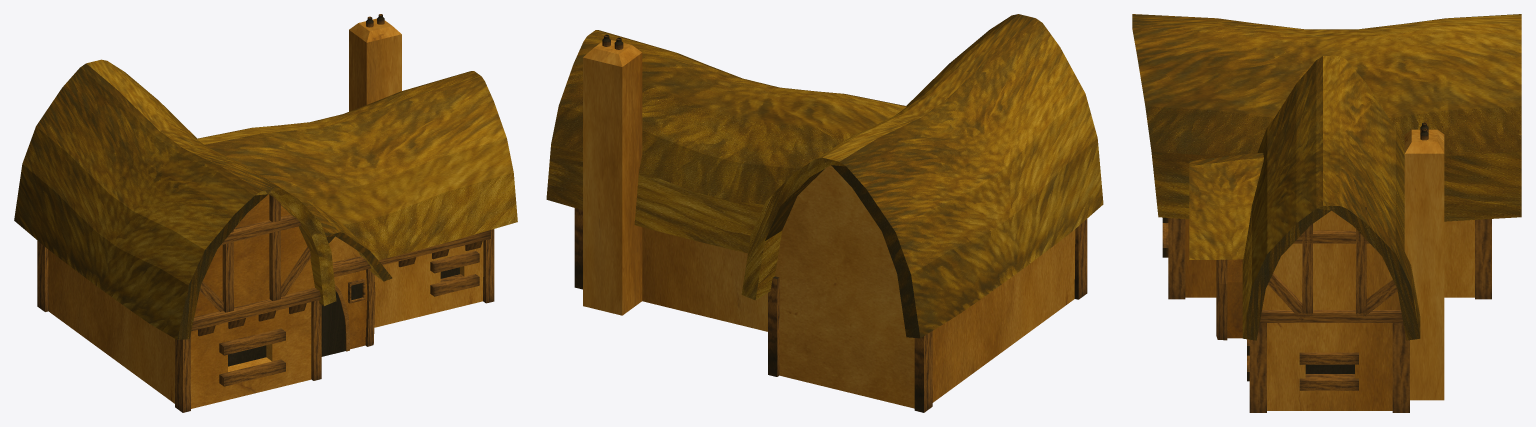
Rendered from house.fbx.
The picture shows the model from 3 angles, left to right: view 1: azimuth 30°, elevation 25°; view 2: azimuth 150°, elevation 25°; view 3: azimuth 270°, elevation 25°; orthographic projection. The views are drawn at different scales.
Visible parts, largest first — view 1: 큐브.025; view 2: 큐브.025; view 3: 큐브.025.
Part boxes in pixels (x1,y1,x2,y2): 큐브.025: (14,14,517,412); 큐브.025: (546,14,1103,412); 큐브.025: (1132,14,1521,412).
Bounding box in the file's own units: 500 × 300 × 400.
